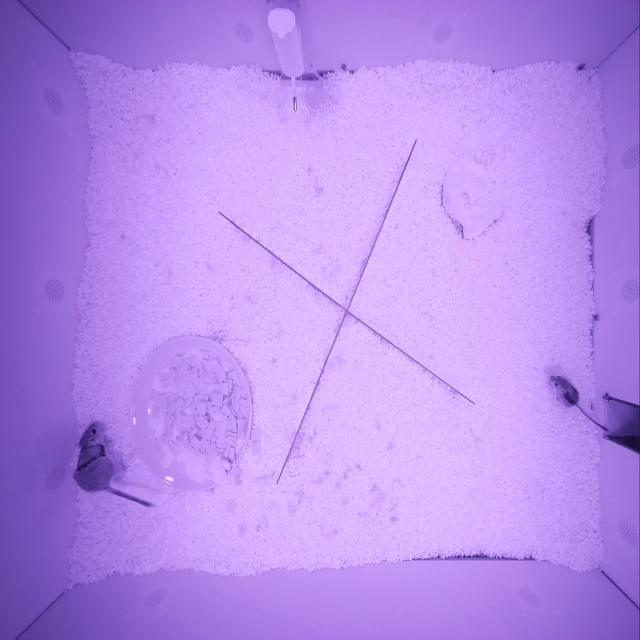adult_front: (73, 423, 121, 491)
pup_v_stripe: (549, 374, 580, 407)
